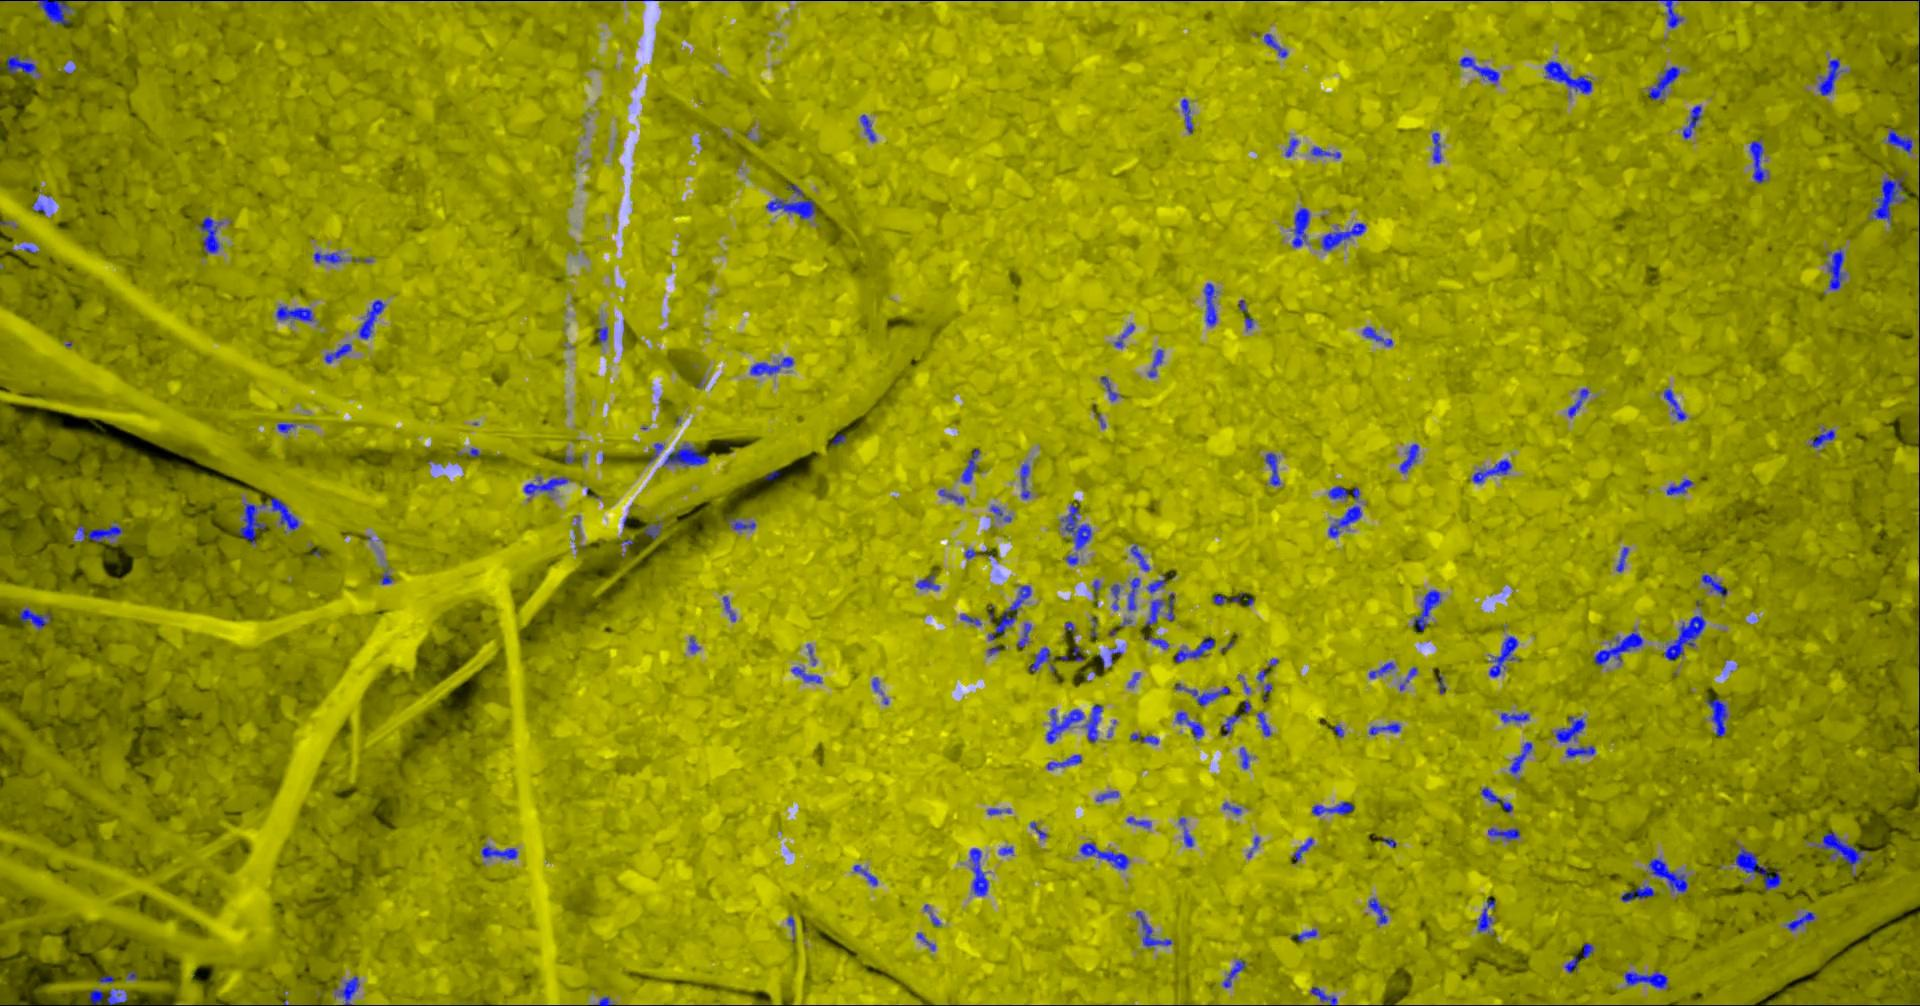ant: (989, 586, 1032, 639), (1736, 846, 1783, 890), (1665, 615, 1707, 661), (1872, 173, 1909, 224), (1595, 629, 1644, 666), (767, 184, 817, 218), (1822, 829, 1865, 868), (1545, 60, 1592, 93), (1062, 504, 1093, 550), (1137, 909, 1173, 946), (1048, 708, 1086, 743), (1081, 842, 1131, 869), (1650, 857, 1689, 892), (1490, 635, 1521, 677), (1322, 222, 1368, 250), (1176, 683, 1230, 706), (1415, 589, 1443, 630), (1462, 56, 1501, 83), (240, 503, 267, 542), (1650, 66, 1681, 99), (1330, 506, 1363, 537), (361, 298, 386, 339), (1145, 592, 1176, 625), (1177, 636, 1217, 662), (664, 445, 709, 466), (1473, 459, 1512, 483), (272, 497, 300, 530), (971, 847, 990, 895), (1818, 58, 1843, 95), (1566, 942, 1595, 972), (750, 356, 795, 375), (201, 216, 223, 253), (1707, 699, 1730, 735), (77, 525, 124, 542), (1557, 715, 1587, 742), (1827, 248, 1846, 290), (524, 476, 569, 494), (38, 0, 72, 23), (1751, 140, 1769, 183), (1625, 970, 1669, 988), (1482, 788, 1514, 812), (1665, 387, 1688, 420), (1177, 711, 1205, 738), (1511, 741, 1533, 774), (1658, 0, 1684, 28), (337, 976, 361, 1005), (1293, 207, 1310, 246), (8, 53, 39, 75), (1030, 647, 1057, 672), (1086, 704, 1103, 742), (277, 304, 314, 321), (963, 448, 982, 483), (90, 988, 130, 1005), (1684, 105, 1703, 138), (1890, 127, 1914, 152), (1703, 574, 1730, 597), (1224, 960, 1247, 987), (20, 608, 52, 627), (1313, 801, 1356, 815), (1570, 387, 1590, 417), (1265, 33, 1289, 57), (1364, 326, 1394, 345), (1785, 911, 1816, 930), (1622, 884, 1656, 901), (1479, 899, 1496, 934), (1205, 282, 1218, 326), (1401, 443, 1420, 473), (326, 343, 353, 363), (855, 864, 879, 885), (1294, 837, 1314, 862), (483, 845, 519, 859), (1131, 544, 1150, 570), (1370, 897, 1389, 923), (1312, 986, 1338, 1005), (1266, 452, 1281, 485), (792, 666, 823, 682), (1048, 754, 1083, 768), (1116, 323, 1137, 347), (1812, 428, 1836, 447), (1669, 478, 1694, 495), (1370, 661, 1396, 678), (1149, 348, 1164, 377), (1180, 817, 1195, 846), (1330, 485, 1361, 499), (1129, 577, 1142, 610), (1148, 573, 1168, 593), (1223, 714, 1242, 735), (1182, 98, 1194, 133), (862, 114, 877, 141), (1370, 721, 1402, 734), (1490, 827, 1521, 840), (1102, 376, 1119, 400), (917, 573, 941, 589), (728, 516, 757, 528), (940, 489, 965, 503), (1312, 146, 1342, 158), (990, 506, 1013, 521), (724, 594, 737, 621), (1617, 547, 1630, 572), (1018, 622, 1032, 647), (1258, 711, 1272, 735), (649, 442, 665, 462), (315, 251, 344, 263), (1131, 733, 1161, 744), (1567, 746, 1596, 757), (1432, 132, 1443, 163), (1294, 929, 1318, 941), (1022, 464, 1031, 498), (1147, 636, 1170, 649), (1128, 815, 1152, 827), (646, 521, 662, 539), (1214, 594, 1241, 605), (1097, 790, 1120, 801), (1286, 138, 1300, 156), (1502, 713, 1530, 721), (1224, 801, 1243, 814), (1112, 583, 1121, 610), (963, 614, 983, 625), (1241, 747, 1251, 768), (989, 808, 1012, 815), (833, 433, 847, 445), (278, 423, 296, 432), (599, 326, 610, 342), (1074, 645, 1084, 661)
